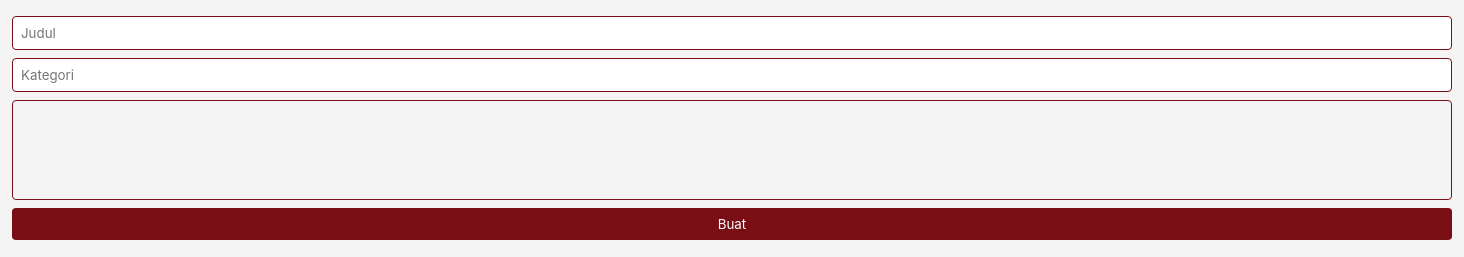
Test: NewThreadInput component › should handle body typing correctly
Click the text box with test id "body" at (732, 150), box [12, 100, 1452, 200]
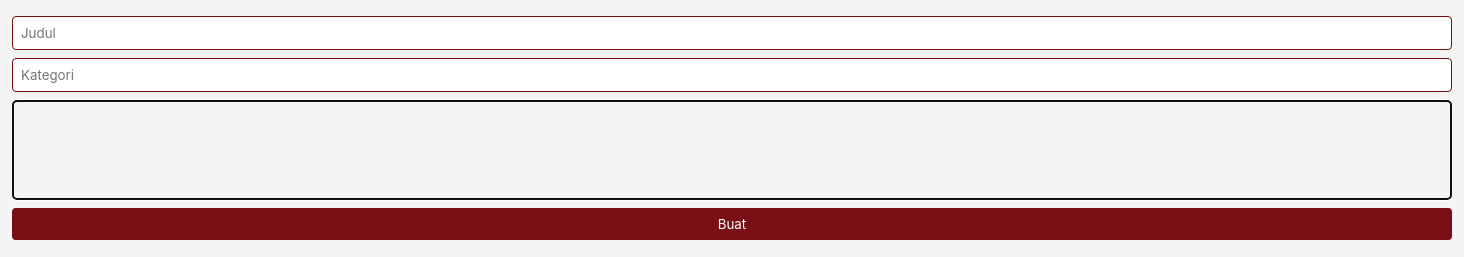
Type keys "boditest"
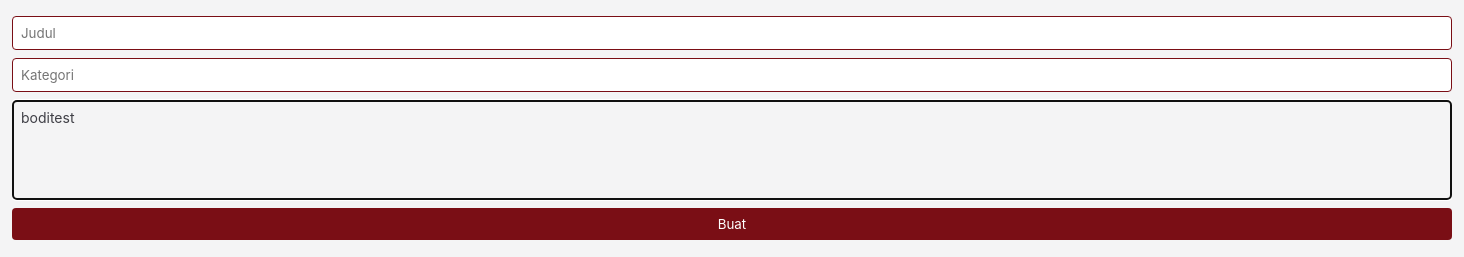
Expected: the text "boditest" is shown, [12, 100, 1452, 200]
